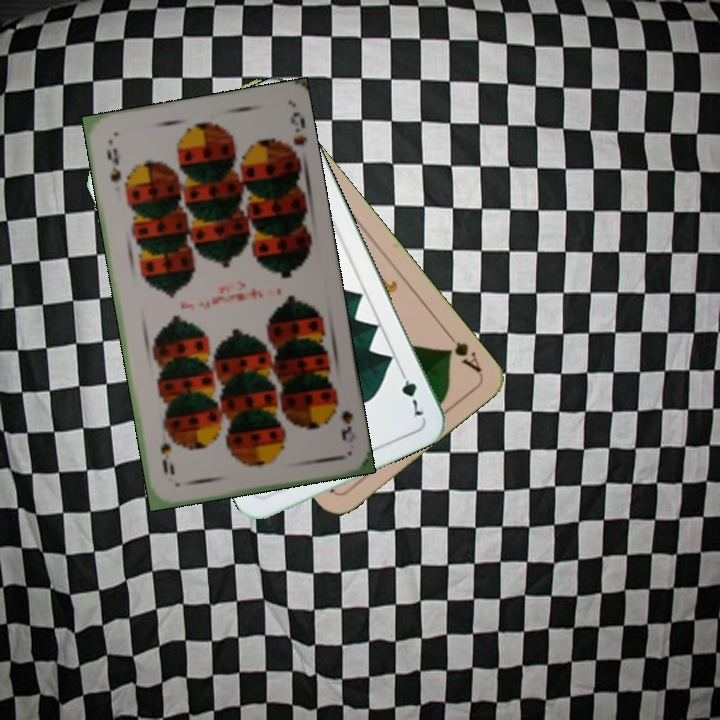G7: (395, 364, 426, 421)
GA: (440, 325, 484, 375)
S9: (327, 392, 356, 444), (102, 144, 124, 185)
